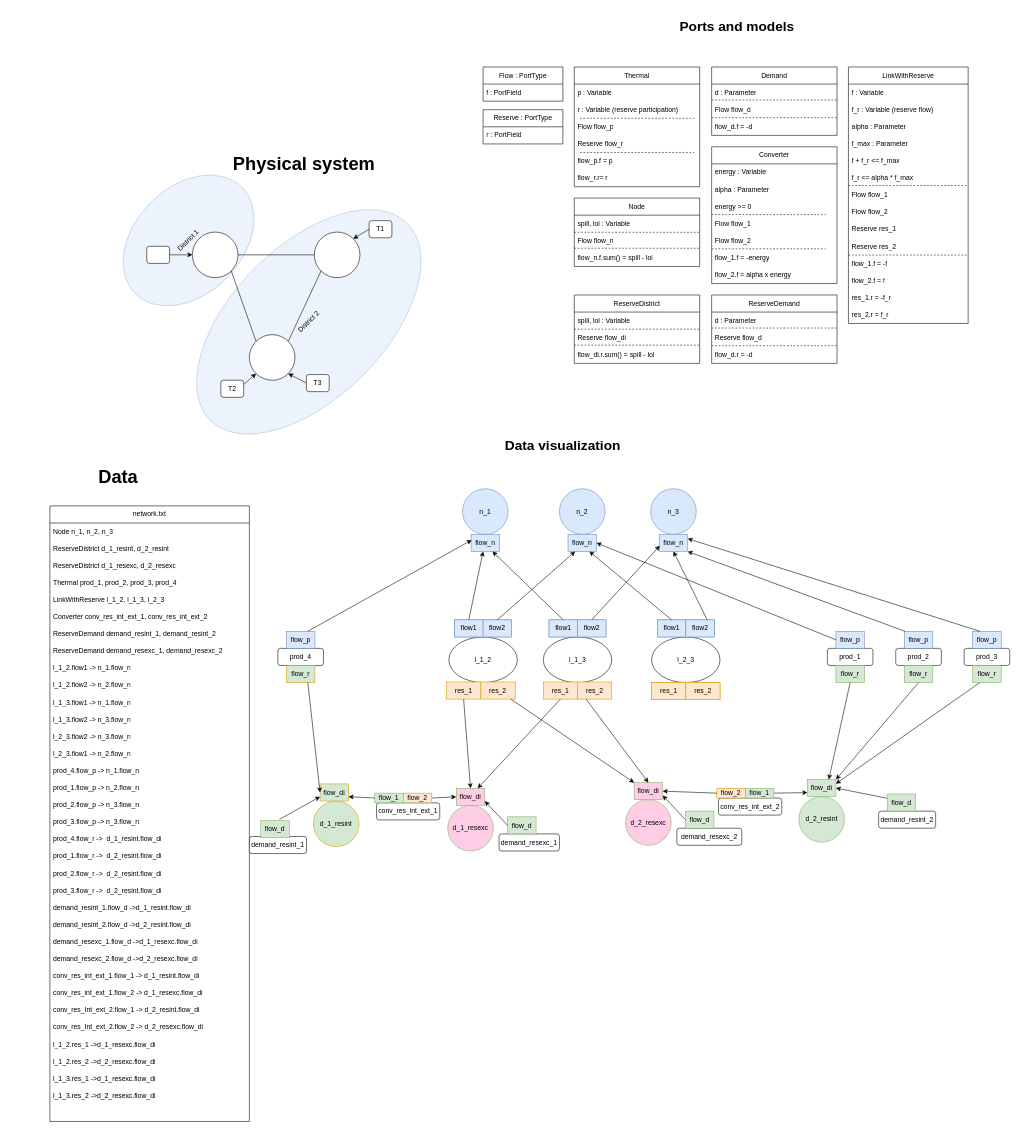
This 1020x1131 diagram has some shape labels left out. Here are the shapes that lost their labels. From the top down, the centre of each, then its label:
the point at 158,254: T4
the point at 215,254: N1
the point at 337,254: N2
the point at 272,357: N3
